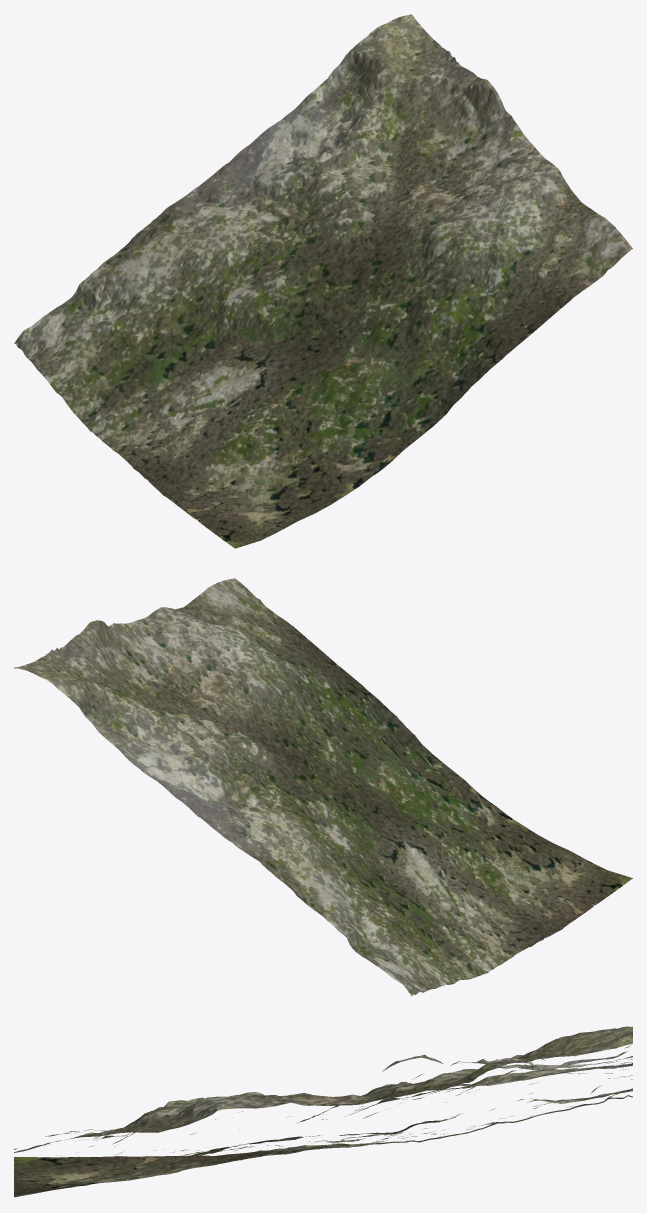
3 views of the same model, one above another, from view 1: azimuth 30°, elevation 25°; view 2: azimuth 150°, elevation 25°; view 3: azimuth 270°, elevation 25° (orthographic). The views are drawn at different scales.
Size of the model in its own units: 500 by 332 by 481.
1 material, 1 textured.
